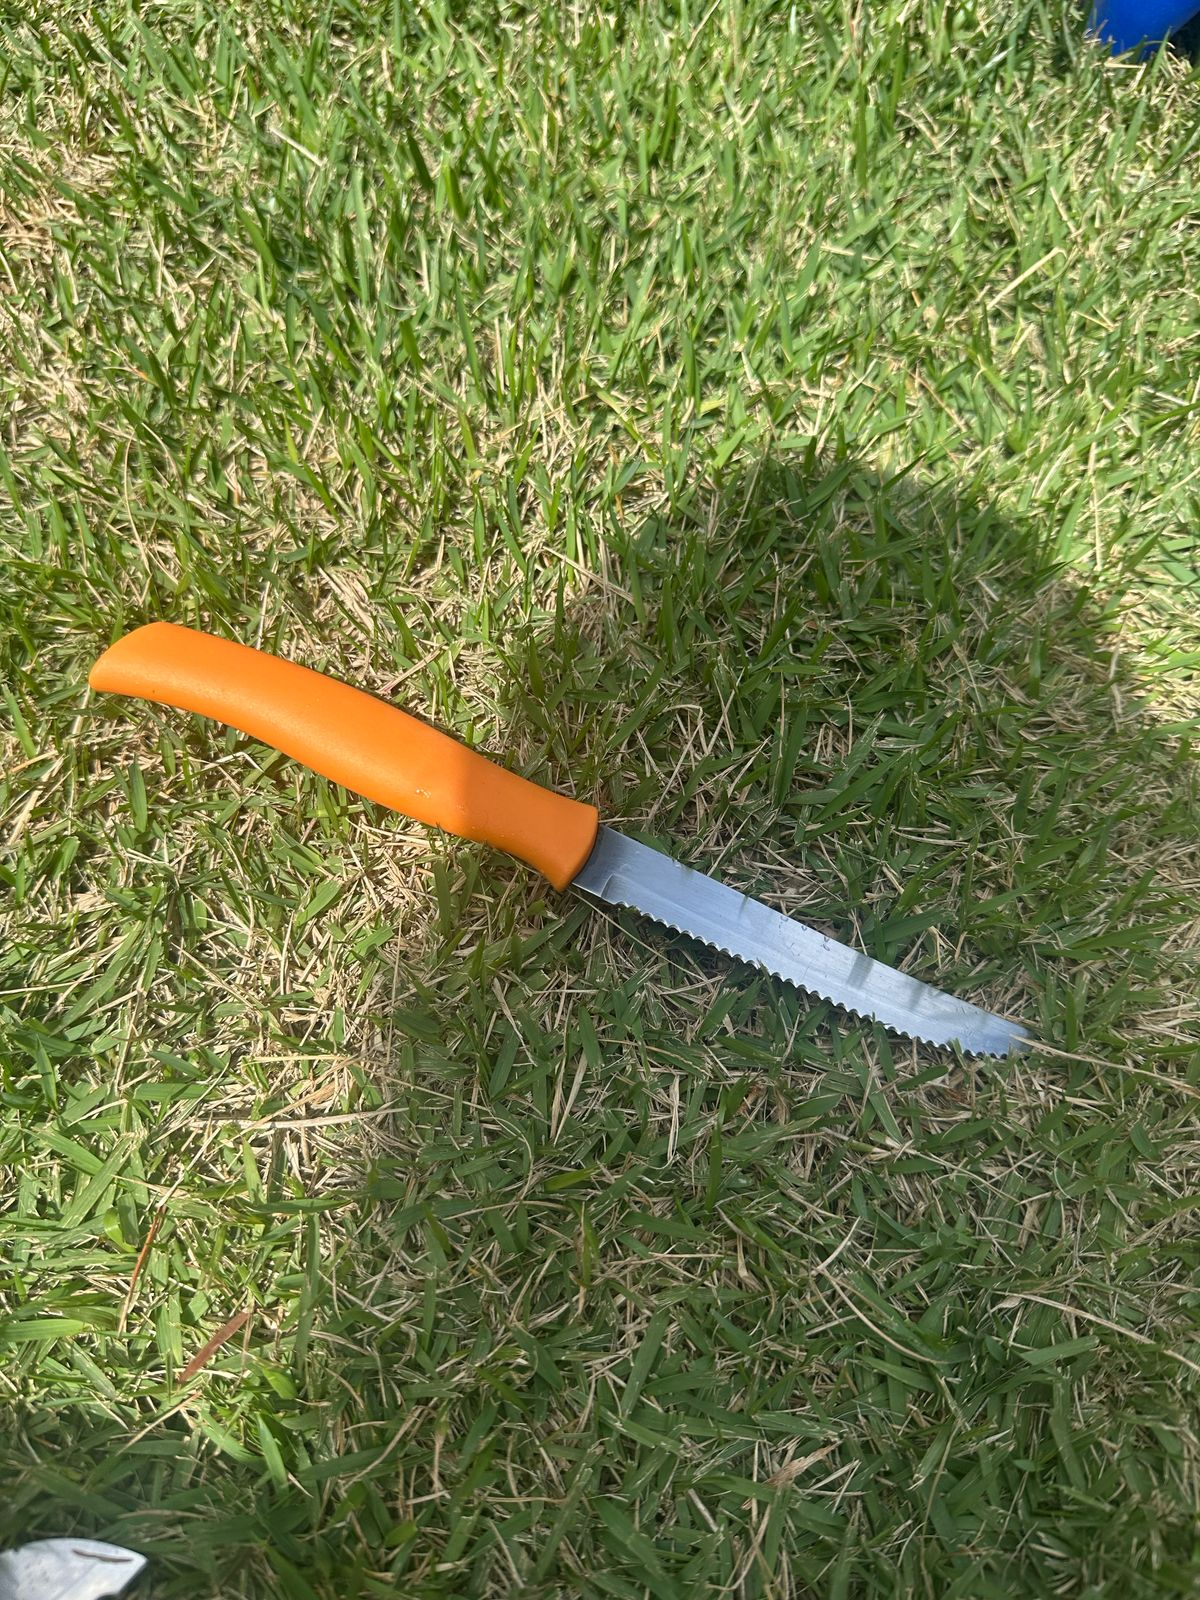faca: (63, 587, 1045, 1075)
